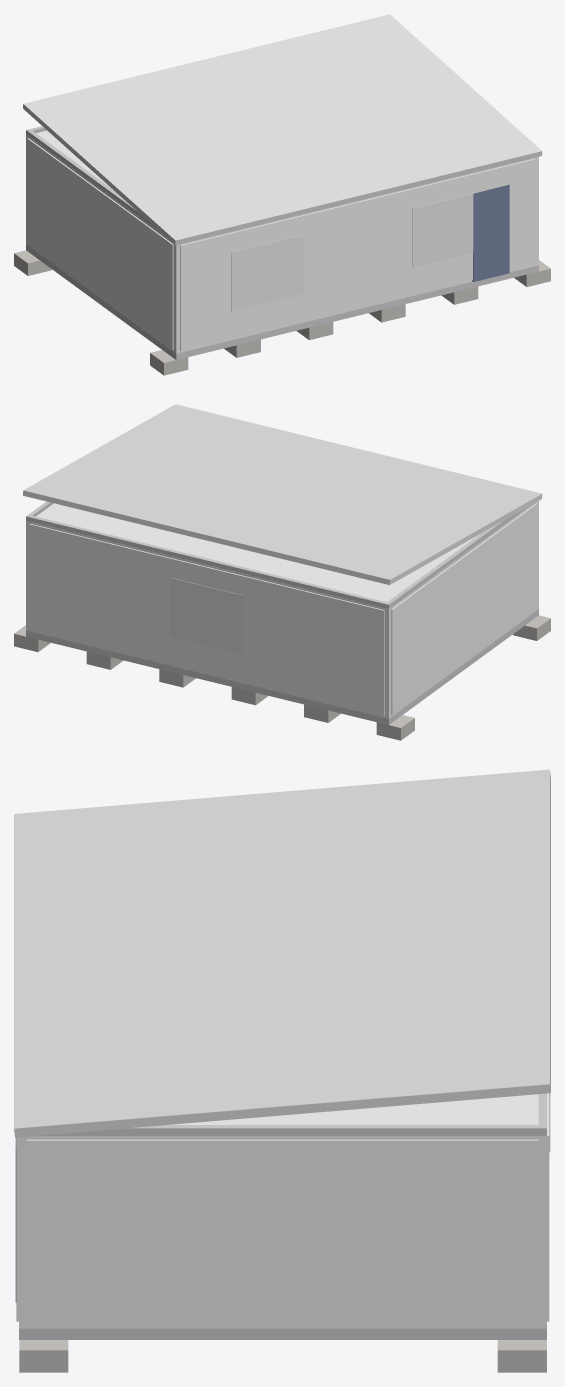
The model's file is Studio-30-Premium+SlopingRoof-LOD2.glb.
The picture shows the model from 3 angles, top to bottom: view 1: azimuth 30°, elevation 25°; view 2: azimuth 150°, elevation 25°; view 3: azimuth 270°, elevation 25°; orthographic projection. The views are drawn at different scales.
Visible parts, largest first — view 1: RoofSlopingUpgrade, ExteriorPanelsPremium, WindowsLargeUpgrade, BaseFrame, FoundationBlocks, ExteriorShell, EntryDoor, TopFrame, InteriorCeiling; view 2: ExteriorPanelsPremium, RoofSlopingUpgrade, InteriorCeiling, WindowsLargeUpgrade, ExteriorShell, TopFrame, BaseFrame, FoundationBlocks; view 3: RoofSlopingUpgrade, ExteriorPanelsPremium, ExteriorShell, BaseFrame, InteriorCeiling, TopFrame, FoundationBlocks.
Boxes of the visible parts, box(x1,y1,x2,y2) form: RoofSlopingUpgrade: box(23, 14, 542, 245); ExteriorPanelsPremium: box(27, 138, 535, 350); WindowsLargeUpgrade: box(231, 190, 484, 311); BaseFrame: box(26, 244, 538, 359); FoundationBlocks: box(14, 250, 550, 375); ExteriorShell: box(26, 134, 538, 353); EntryDoor: box(472, 184, 509, 281); TopFrame: box(26, 126, 161, 233); InteriorCeiling: box(36, 130, 112, 189); ExteriorPanelsPremium: box(29, 503, 537, 715); RoofSlopingUpgrade: box(23, 404, 542, 584); InteriorCeiling: box(36, 503, 479, 601); WindowsLargeUpgrade: box(170, 577, 242, 654); ExteriorShell: box(26, 501, 538, 718); TopFrame: box(26, 501, 528, 608); BaseFrame: box(26, 609, 538, 724); FoundationBlocks: box(14, 615, 550, 740); RoofSlopingUpgrade: box(14, 769, 550, 1137); ExteriorPanelsPremium: box(16, 1093, 549, 1325); ExteriorShell: box(19, 1136, 546, 1328); BaseFrame: box(19, 1328, 546, 1339); InteriorCeiling: box(169, 1094, 538, 1124); TopFrame: box(37, 1093, 546, 1135); FoundationBlocks: box(19, 1340, 546, 1372).
Size of the model in its own units: 9.6 by 3.77 by 6.56.
